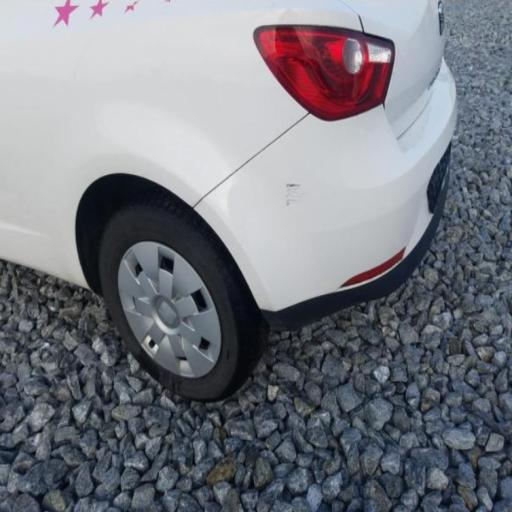scratch: (276, 178, 305, 214)
